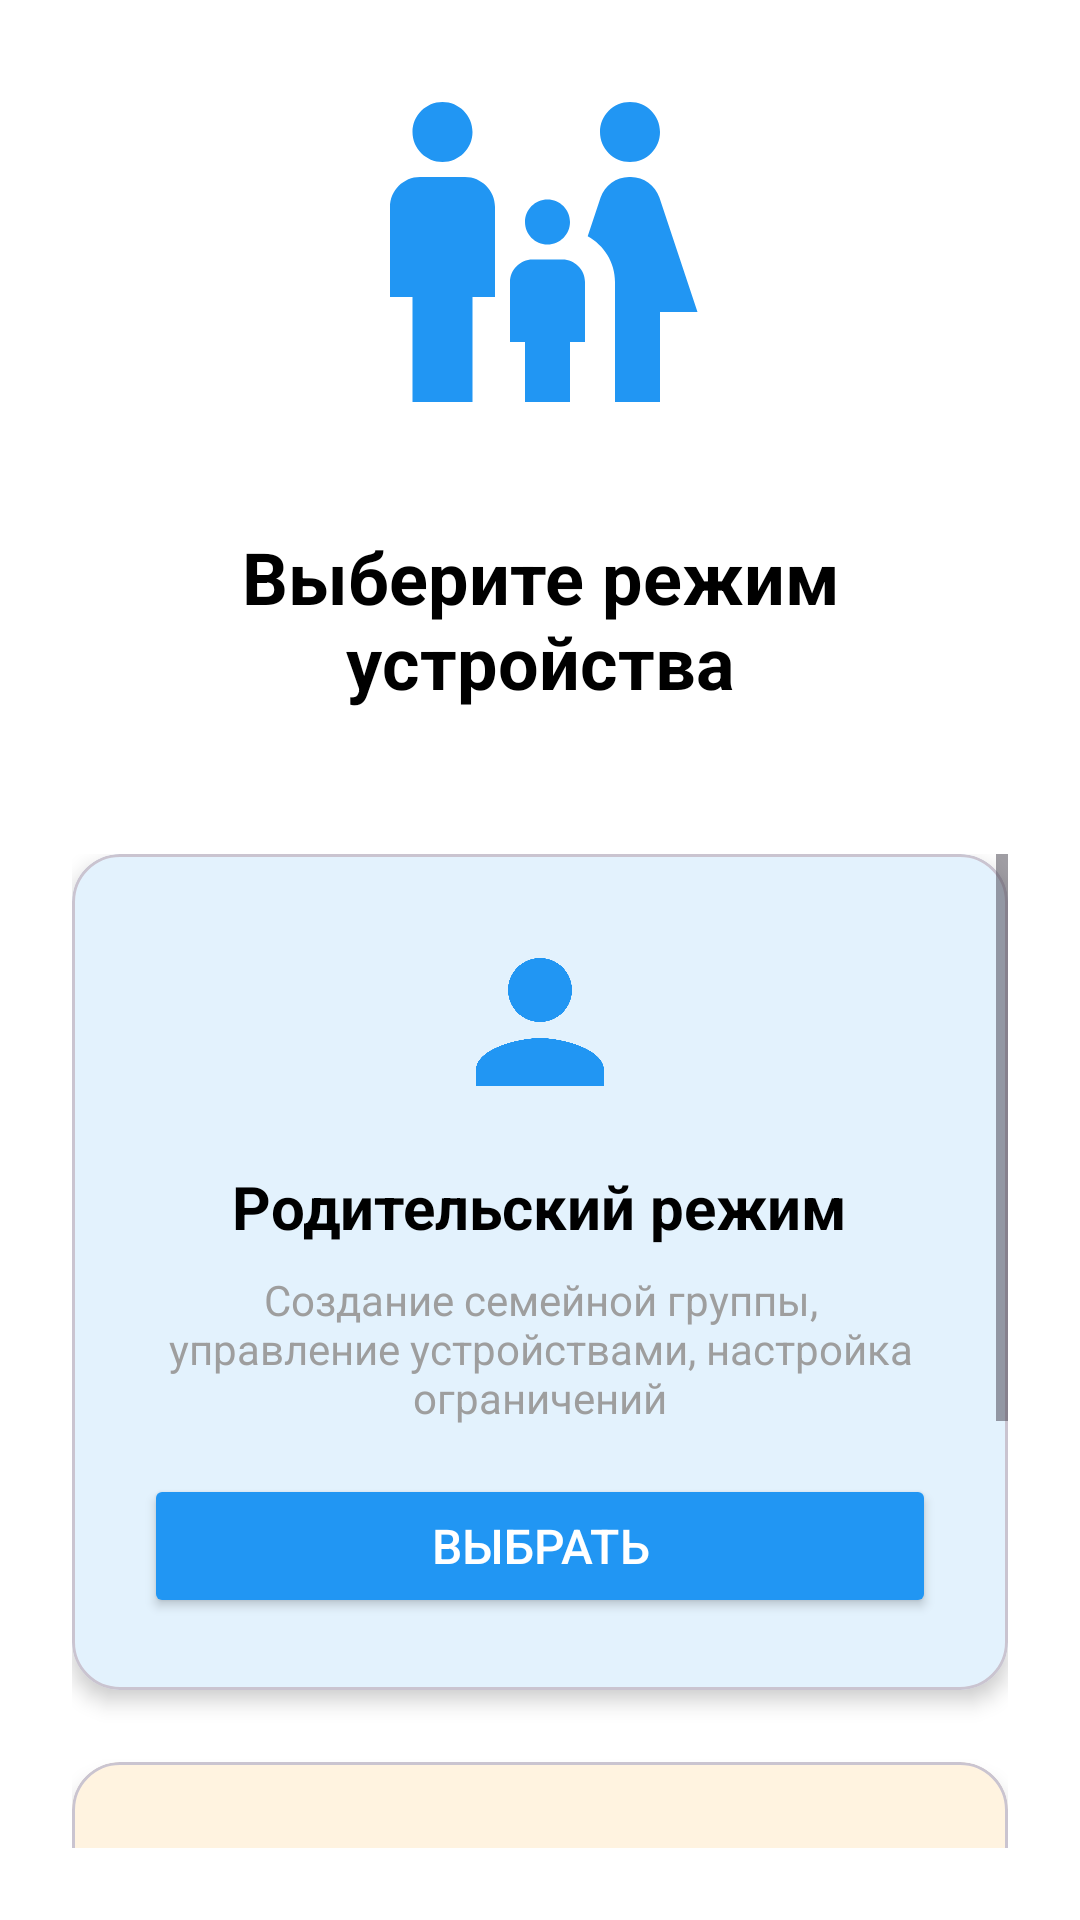

Named icons in this screenshot (1080w x 1920h) and their centers, (x,y):
family: (544,252)
